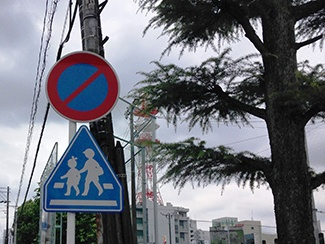Prohibition_sign: (47, 42, 119, 130)
